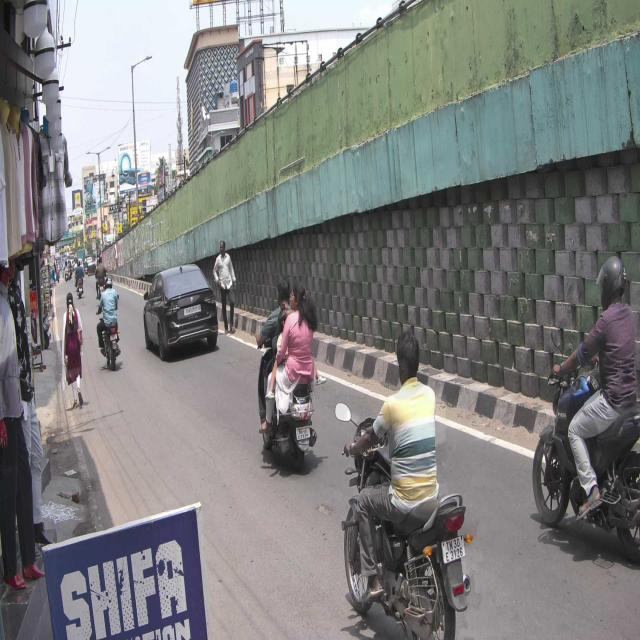double_rider: (256, 276, 320, 478)
single_rider: (341, 331, 473, 640), (530, 248, 640, 568)
